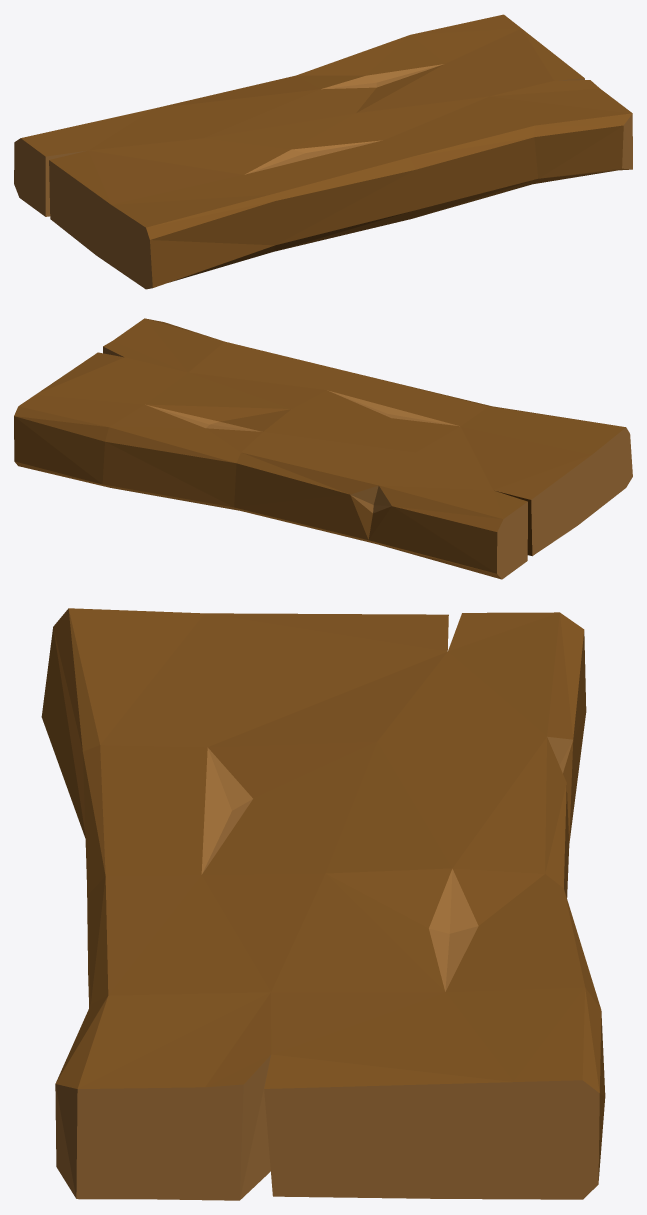
File: PlankB.fbx
3 renders of one model, top to bottom at view 1: azimuth 30°, elevation 25°; view 2: azimuth 150°, elevation 25°; view 3: azimuth 270°, elevation 25°, orthographic. The views are drawn at different scales.
Parts seen in each view (by area): view 1: PlankB; view 2: PlankB; view 3: PlankB.
Part boxes in pixels (<box>): PlankB: <box>14,14,632,289</box>; PlankB: <box>14,318,632,579</box>; PlankB: <box>41,608,605,1200</box>.
Size of the model in its own units: 100 by 12.93 by 50.99.
